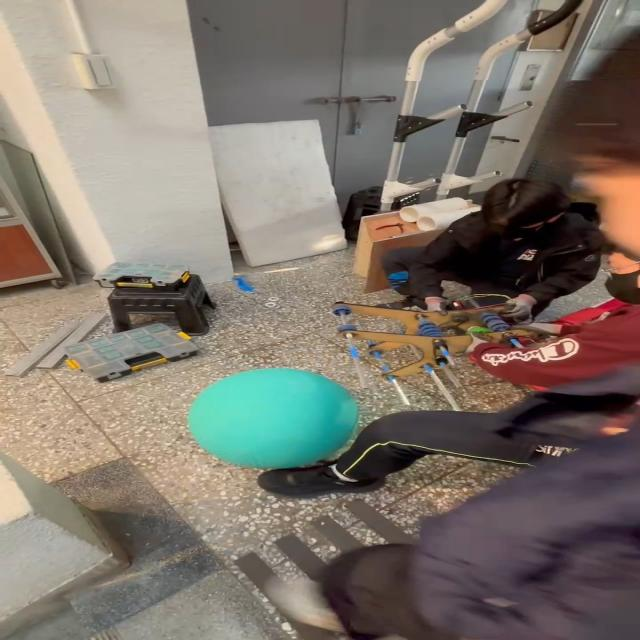ALGAE: (185, 366, 359, 469)
